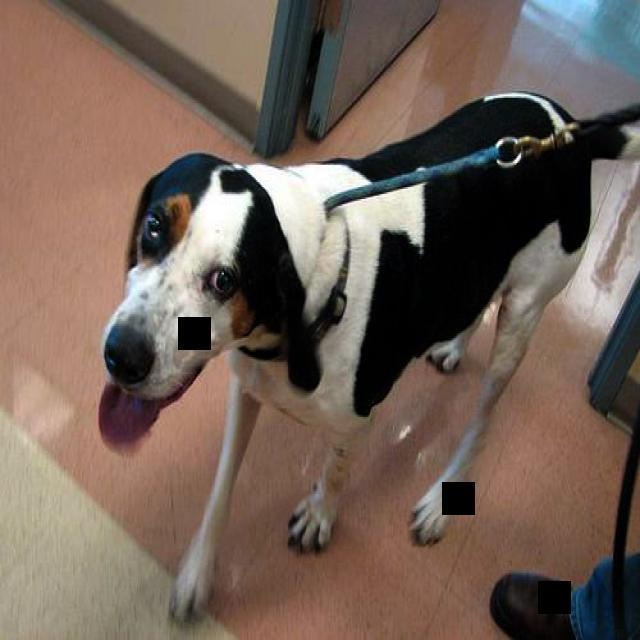adult_dog: (95, 89, 640, 625)
